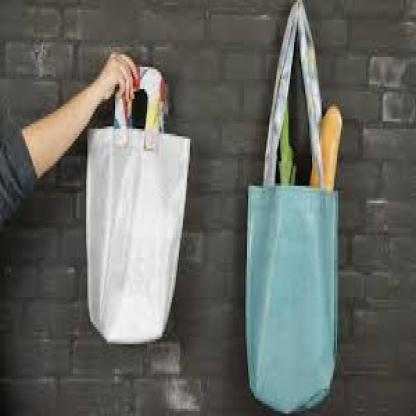5: (83, 64, 190, 344)
Dgrx: (307, 102, 341, 186), (278, 94, 296, 183)
